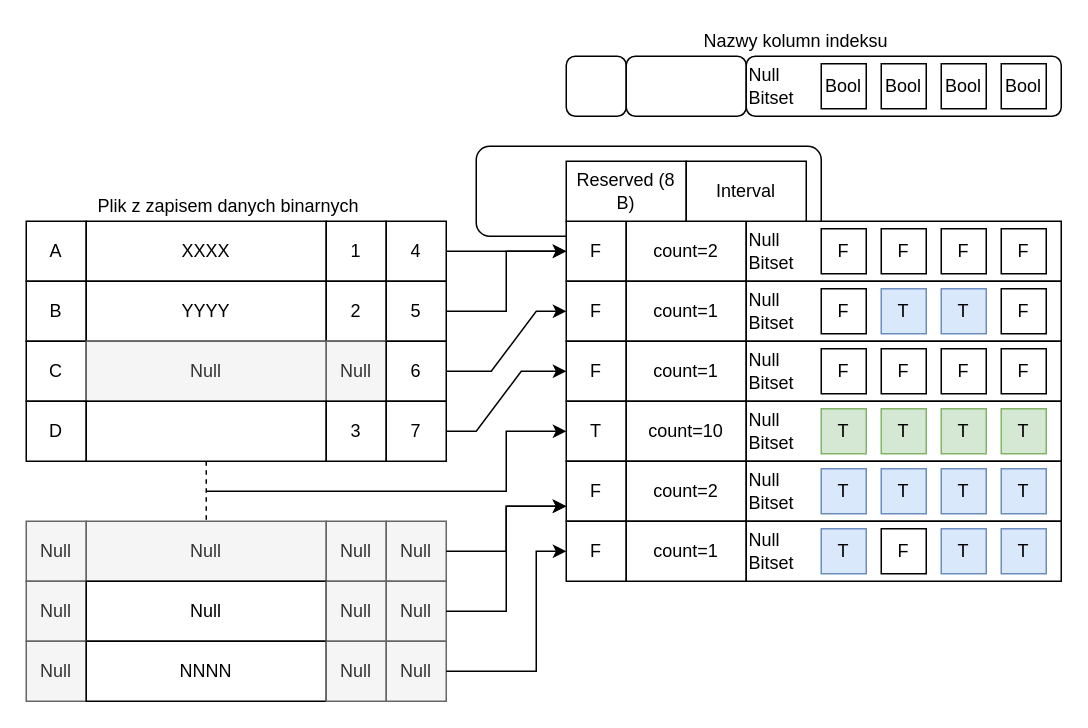
This 1088x728 diagram has some shape labels left out. Each missing label, with the box of its shape:
count: (625, 55, 746, 116)
IsGap: (565, 55, 626, 116)
Nagłówek: (475, 145, 821, 236)
RRRR: (85, 400, 326, 461)
